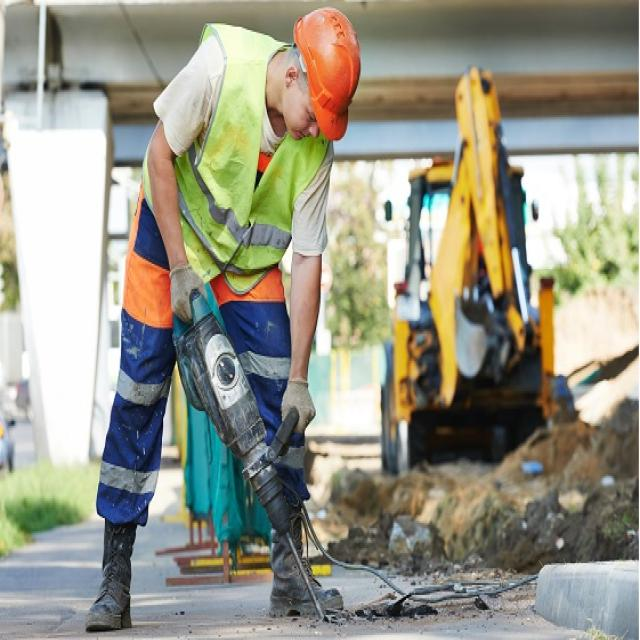helmet: (291, 7, 364, 142)
vest: (188, 19, 286, 289)
